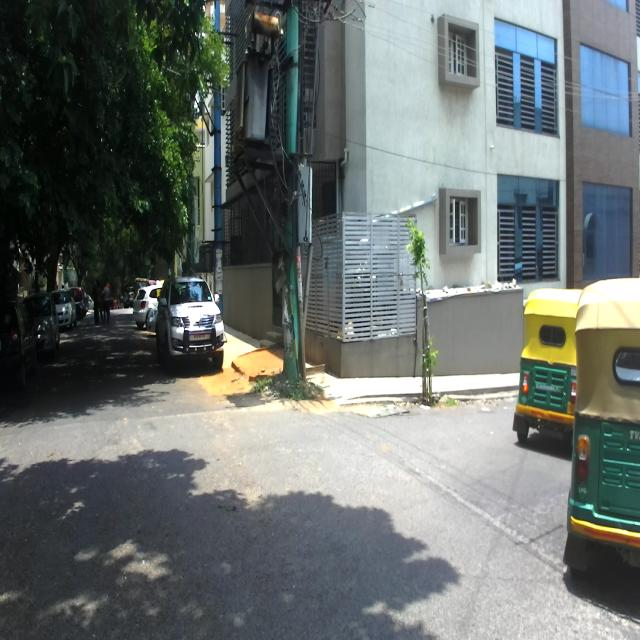auto ahead at: (570, 281, 640, 565)
car ahead at: (154, 269, 228, 377)
electric pole ahead at: (233, 0, 326, 401)
